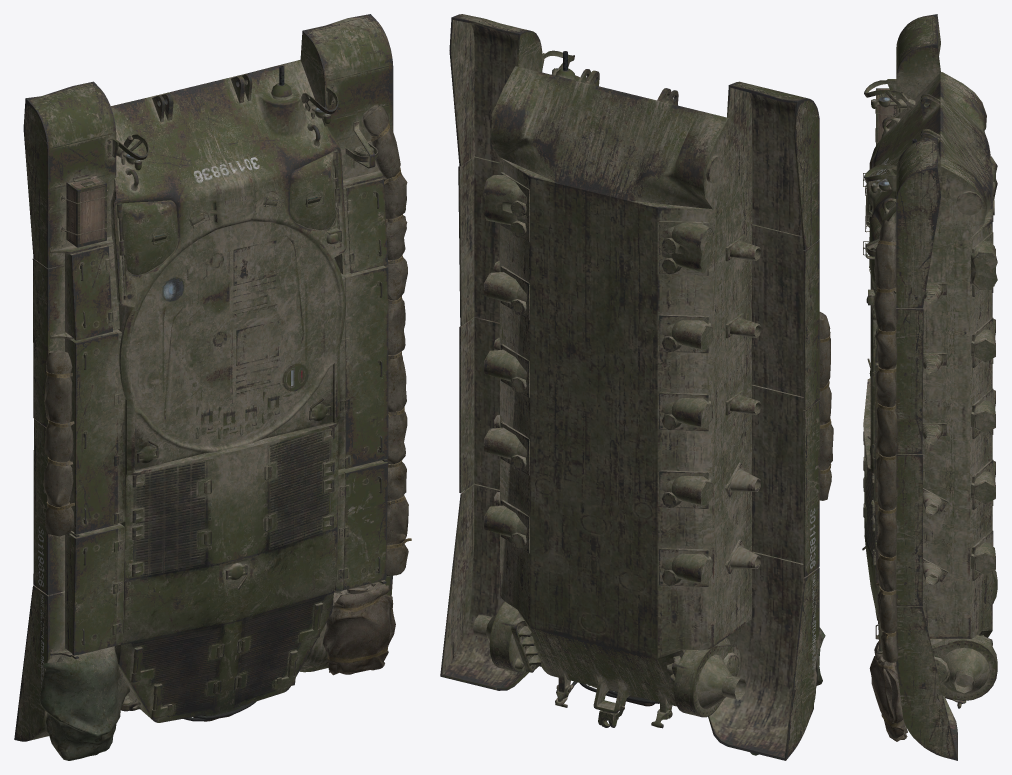
File: Hull.glb
The picture shows the model from 3 angles, left to right: view 1: azimuth 30°, elevation 25°; view 2: azimuth 150°, elevation 25°; view 3: azimuth 270°, elevation 25°; orthographic projection. The views are drawn at different scales.
Parts seen in each view (by area): view 1: set_0_group_0, set_0_group_1; view 2: set_0_group_0, set_0_group_1; view 3: set_0_group_0, set_0_group_1.
Boxes of the visible parts, x1,y1,x2,y2 form: set_0_group_0: (14, 14, 393, 741); set_0_group_1: (40, 105, 411, 760); set_0_group_0: (440, 14, 819, 760); set_0_group_1: (750, 312, 833, 755); set_0_group_0: (862, 14, 997, 760); set_0_group_1: (869, 220, 907, 741).
Bounding box in the file's own units: 3.68 × 6.39 × 1.29.
2 materials, 2 textured.
